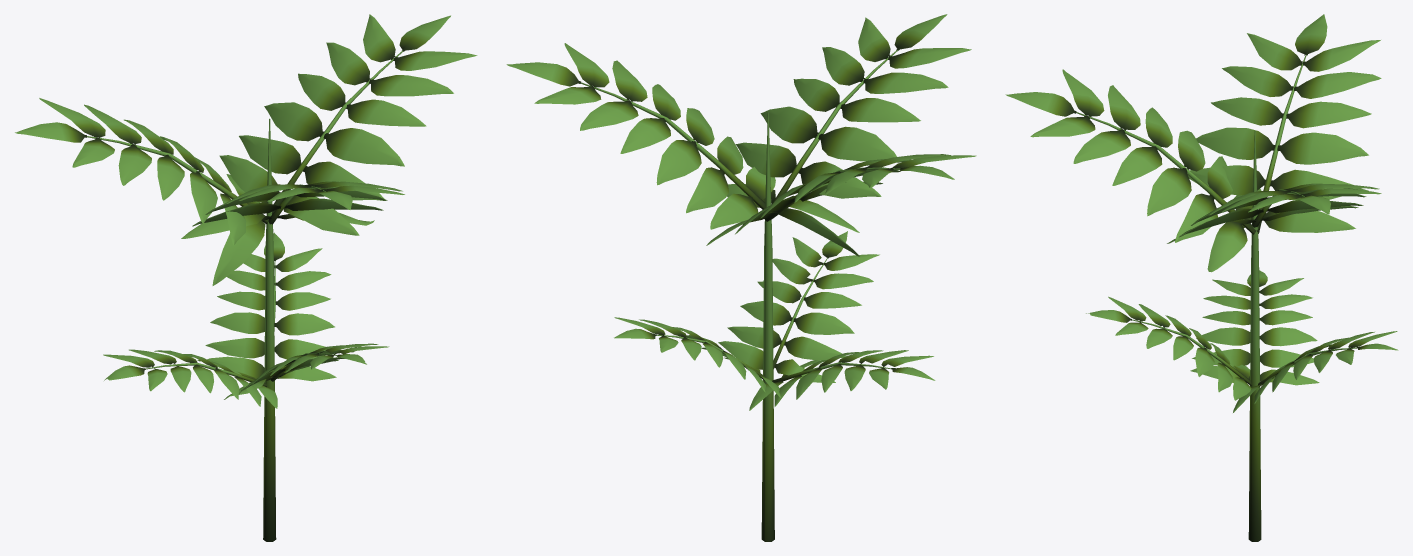
The model's file is Platymiscium stipulare.fbx.
The picture shows the model from 3 angles, left to right: view 1: azimuth 30°, elevation 25°; view 2: azimuth 150°, elevation 25°; view 3: azimuth 270°, elevation 25°; orthographic projection. The views are drawn at different scales.
Visible parts, largest first — view 1: base stem.021; view 2: base stem.021; view 3: base stem.021.
Part boxes in pixels (left/top/right/bottom): base stem.021: left=15, top=14, right=477, bottom=541; base stem.021: left=506, top=14, right=976, bottom=541; base stem.021: left=1005, top=14, right=1398, bottom=541.
Bounding box in the file's own units: 1449 × 1397 × 1158.
